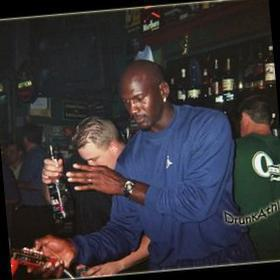Drunk: (120, 81, 158, 127)
